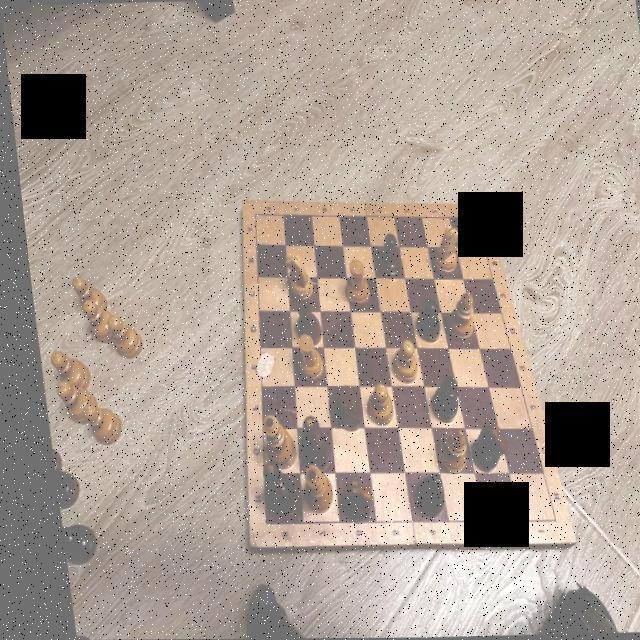chess-table-corners: (538, 516, 548, 526), (250, 519, 257, 528), (468, 214, 475, 222), (247, 211, 253, 218)
